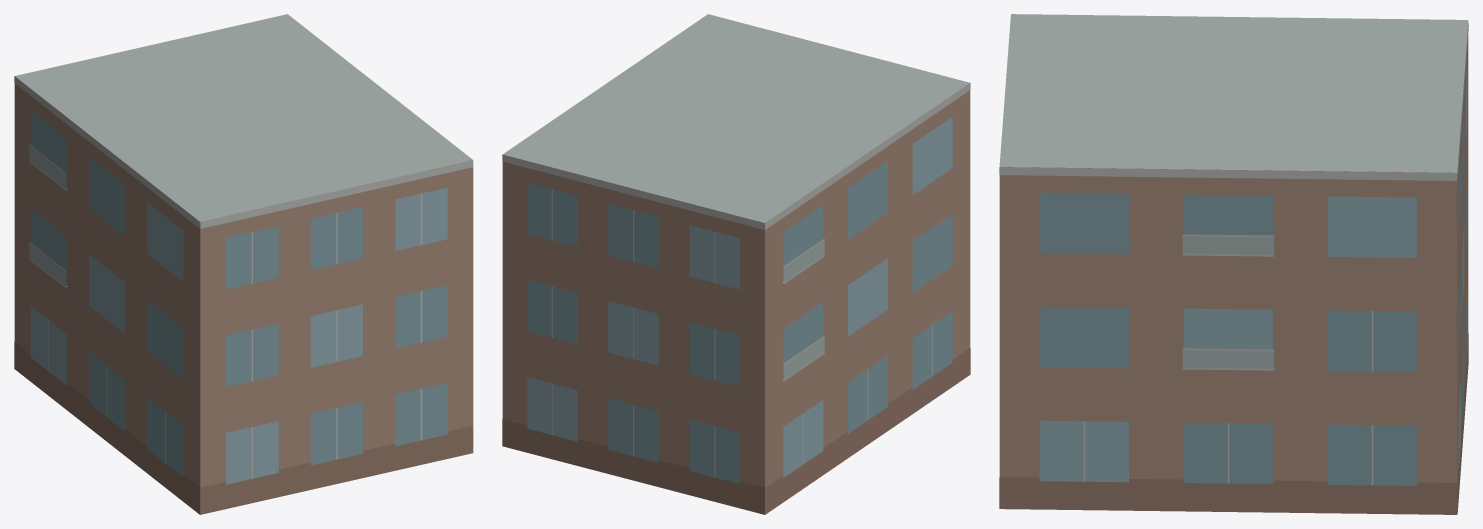
The model's file is survey-upis-32967130.glb.
3 views of the same model, side by side, from view 1: azimuth 30°, elevation 25°; view 2: azimuth 150°, elevation 25°; view 3: azimuth 270°, elevation 25° (orthographic). The views are drawn at different scales.
Visible parts, largest first — view 1: survey-upis-32967130.tmp; view 2: survey-upis-32967130.tmp; view 3: survey-upis-32967130.tmp.
Boxes of the visible parts, x1,y1,x2,y2 form: survey-upis-32967130.tmp: (14,14,473,514); survey-upis-32967130.tmp: (502,14,970,514); survey-upis-32967130.tmp: (999,14,1468,514).
Bounding box in the file's own units: 10.17 × 10.2 × 12.69.
